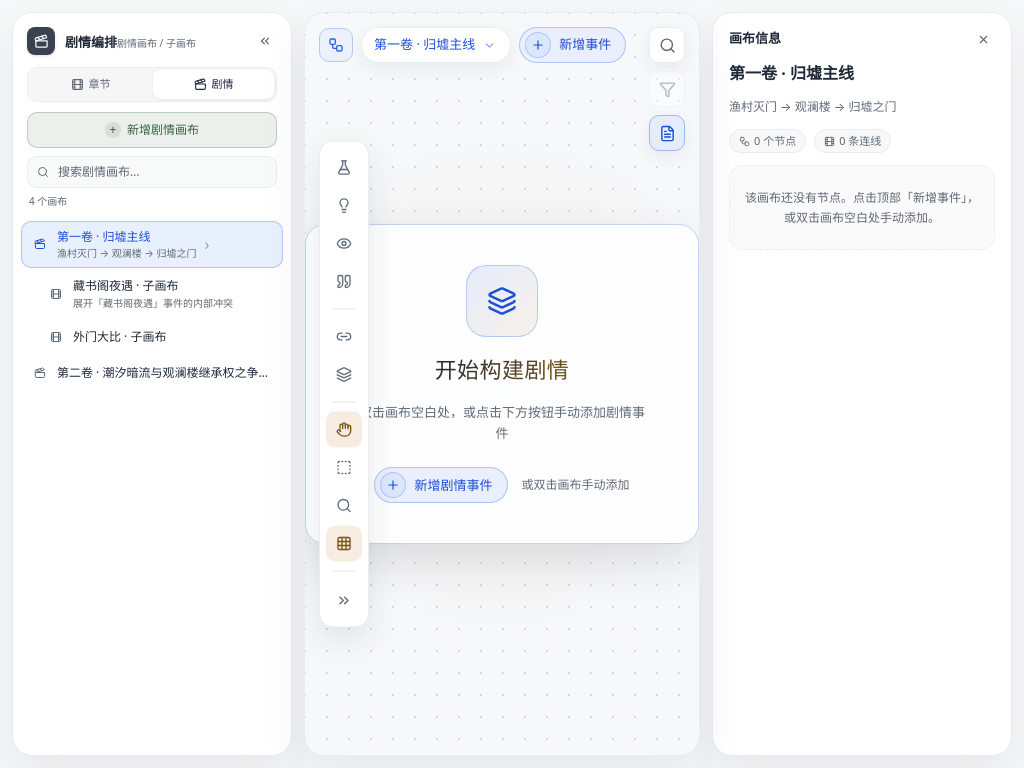
Test: PlotCanvasShell assembly › 插槽装配：折叠目录、展开、信息面板开关、新增事件计数
The image size is (1024, 768).
Expected: the element with test id "plot-canvas-sidebar" shows "第一卷 · 归墟主线", [21, 220, 283, 268]
Expected: the button "第一卷 · 归墟主线" is shown, [361, 27, 511, 63]
Click the button "新增事件" at [573, 45], box [519, 27, 626, 63]
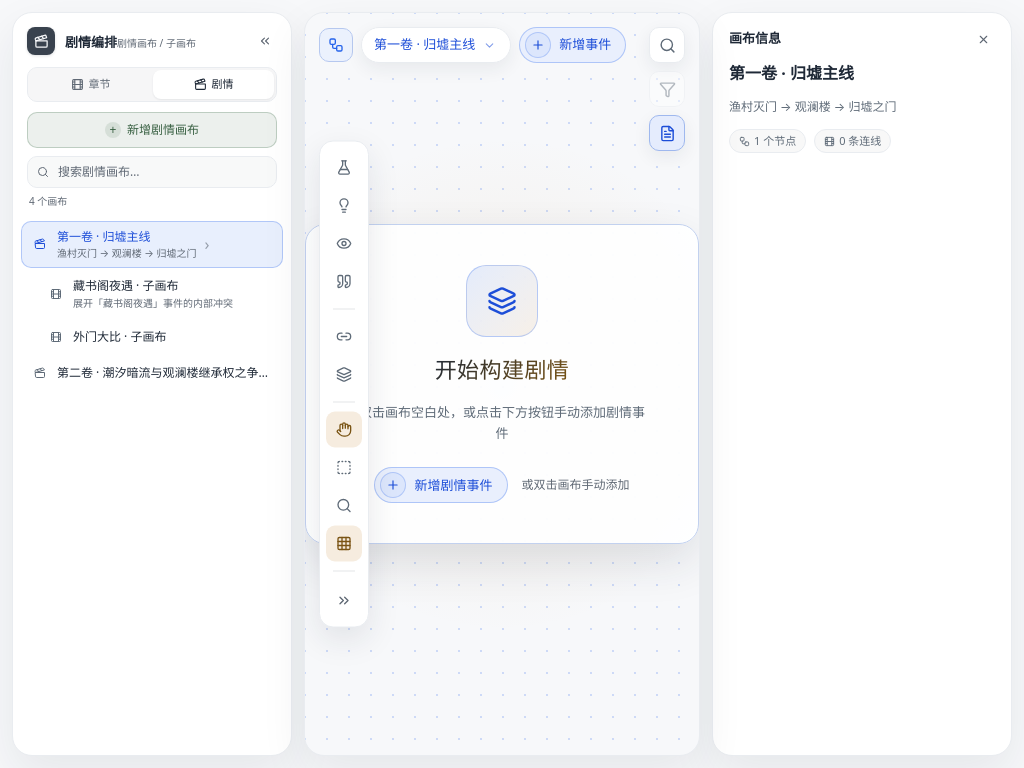
Click the button named "收起目录" at [265, 41], box [253, 29, 277, 53]
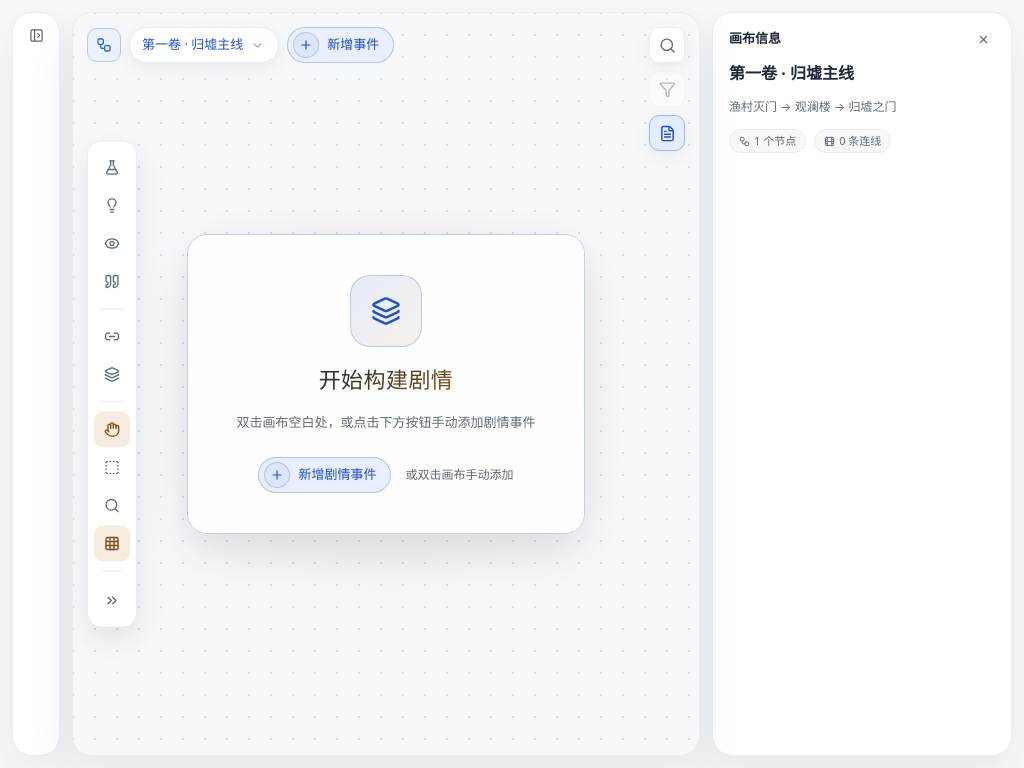
Now the element with test id "plot-canvas-sidebar" is gone
Click the button named "展开目录" at [36, 35], box [24, 23, 48, 47]
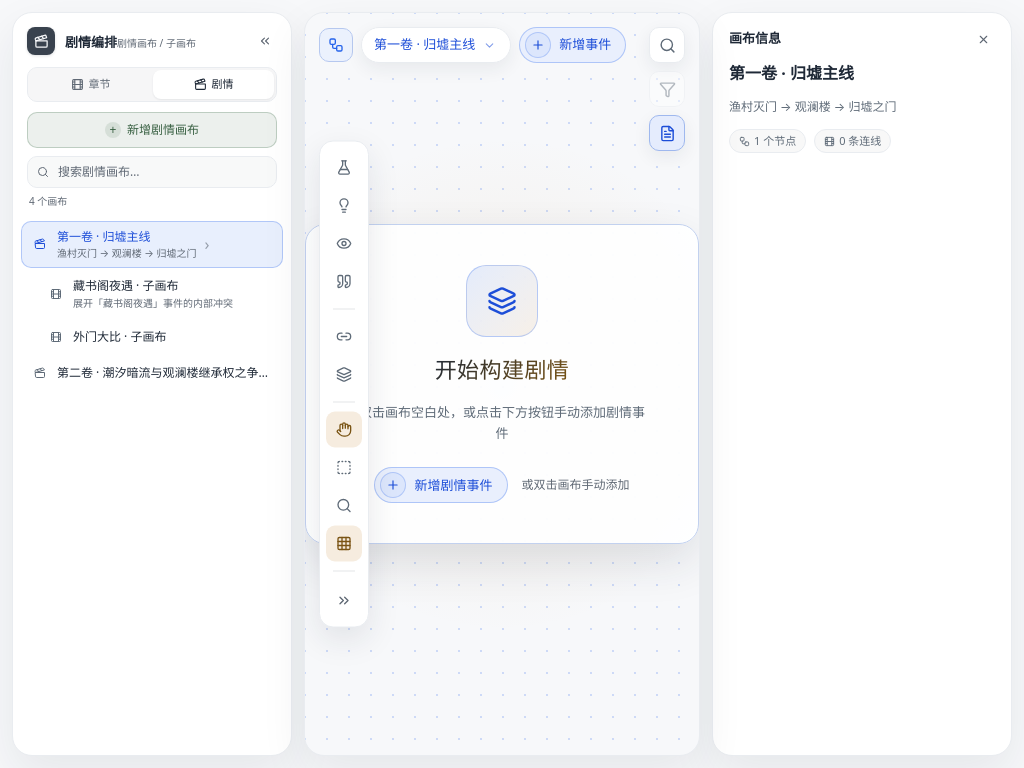
Now the element with test id "plot-canvas-sidebar" is shown, box [21, 27, 283, 390]
